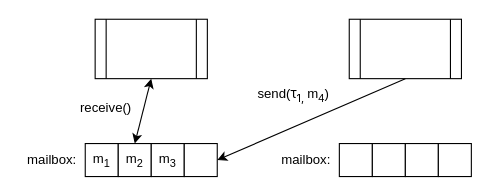
Some shapes in this 491 by 196 pixel diagram are drawn without their labels. The box of each missing label's shape, as (x1, y1, x2, y2) in pixels:
τ 1: (94, 18, 207, 79)
τ 2: (348, 18, 461, 79)
